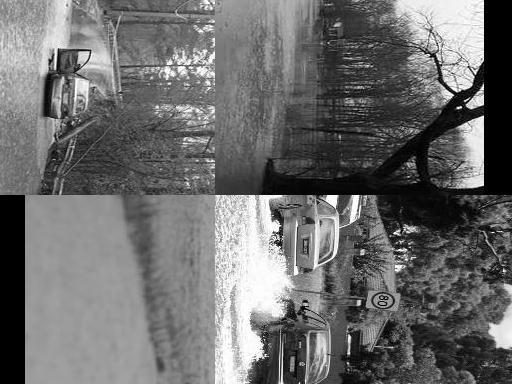road_waterlogging: (24, 195, 212, 384), (215, 195, 279, 315), (278, 0, 323, 169), (0, 72, 48, 195), (215, 91, 262, 195), (215, 346, 259, 384), (64, 0, 81, 38)
